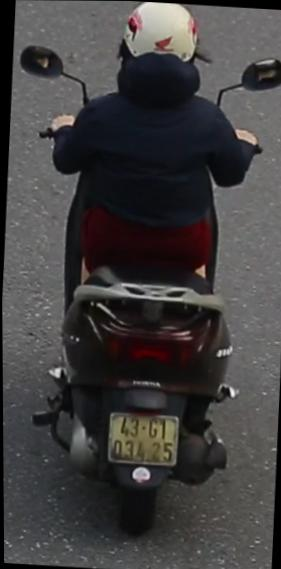LP: (104, 408, 179, 472)
helmet: (114, 1, 208, 107)
